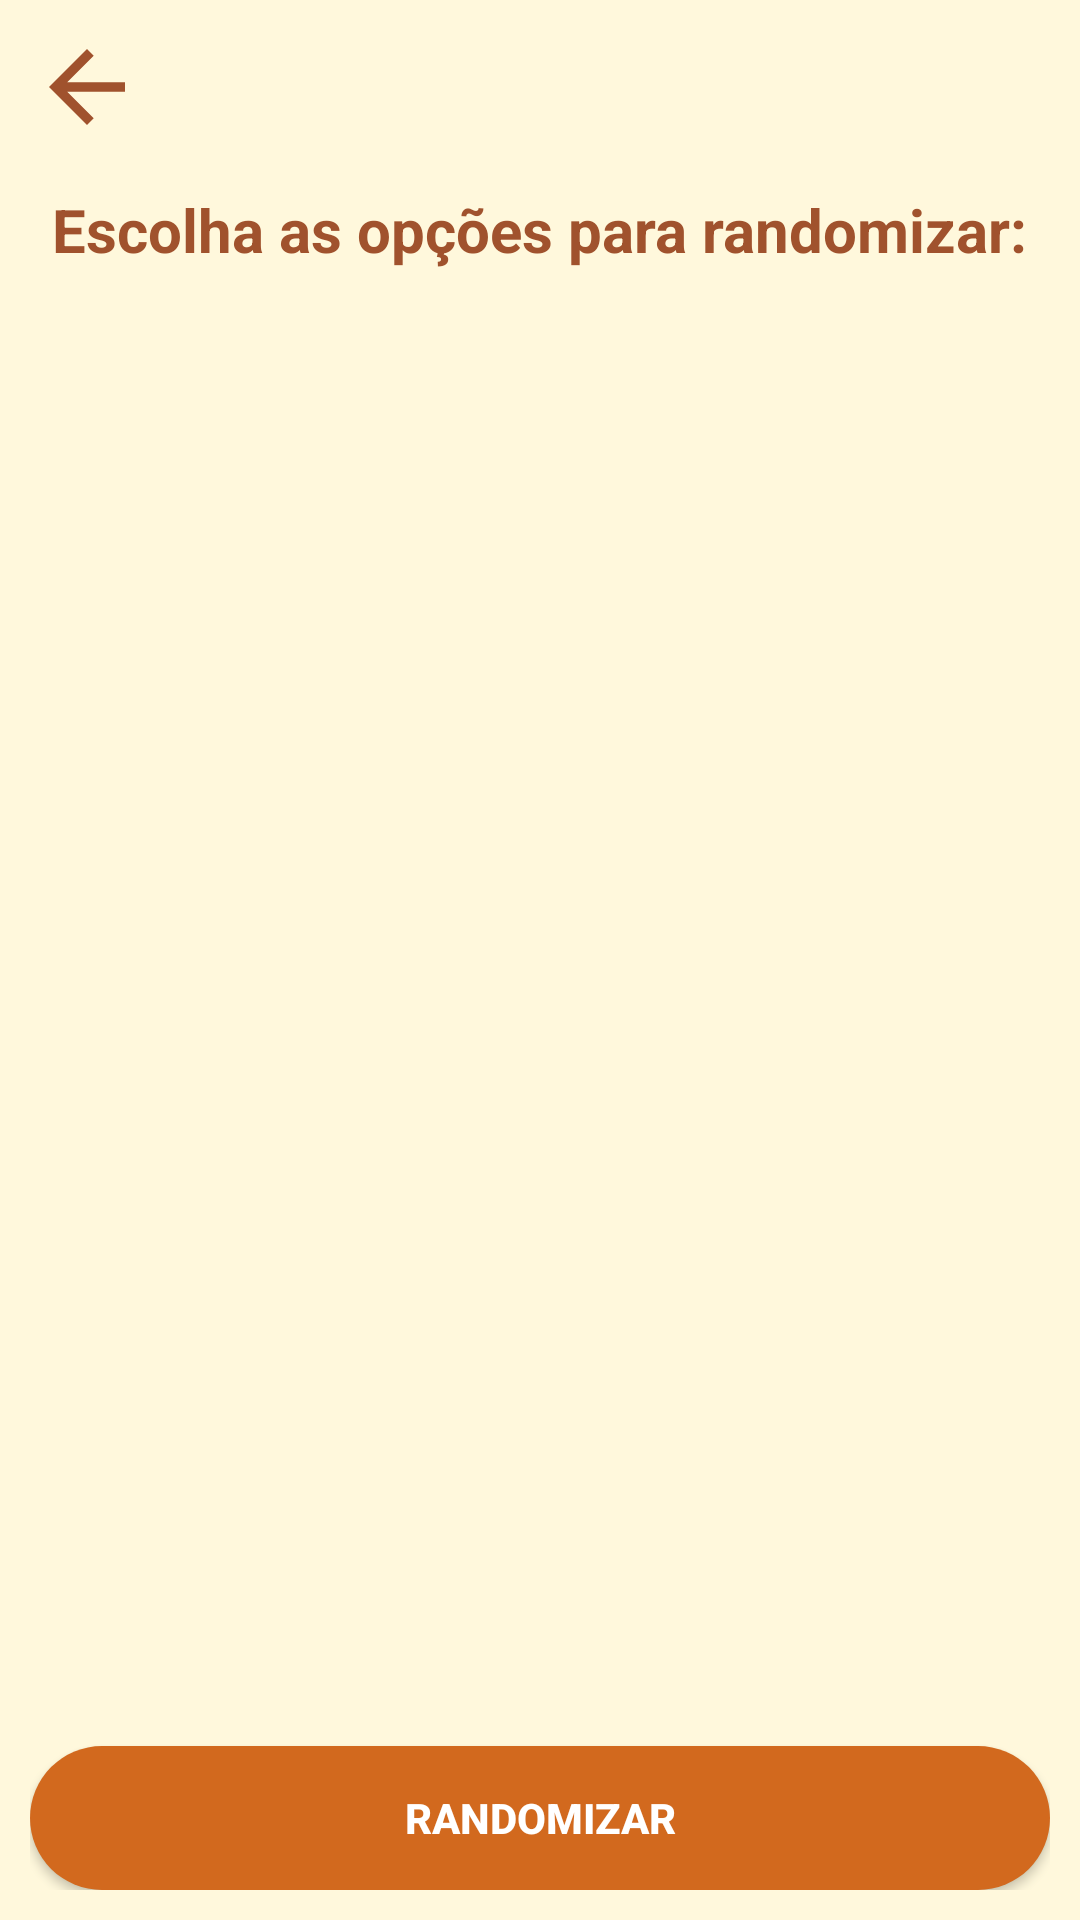

Locate icon controls on the screen. Image size 1080x1920, boxes as (x1, y1, x2, y2).
Voltar: (49, 49, 125, 125)
